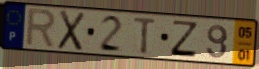2: (95, 15, 125, 53)
9: (205, 23, 230, 59)
R: (23, 7, 59, 51)
T: (132, 16, 158, 56)
X: (56, 8, 87, 53)
Z: (168, 19, 200, 59)
